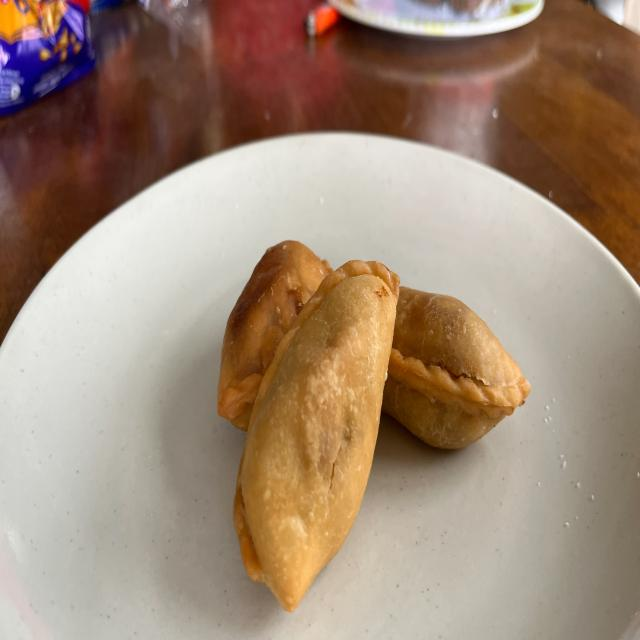karipap: (234, 260, 400, 611), (382, 287, 530, 449), (218, 240, 331, 431)
